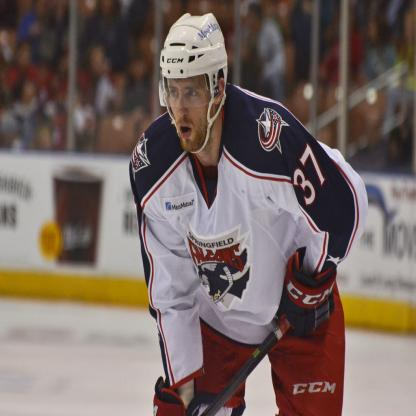Helmet: (157, 12, 228, 153)
